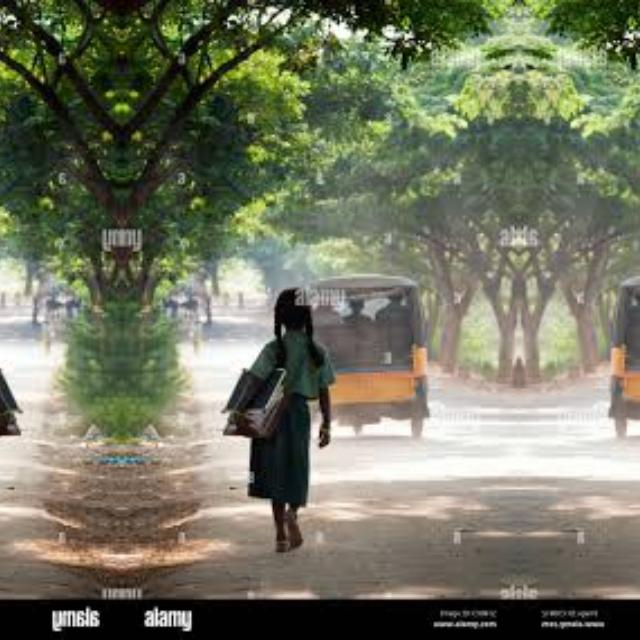person: (245, 290, 337, 542)
